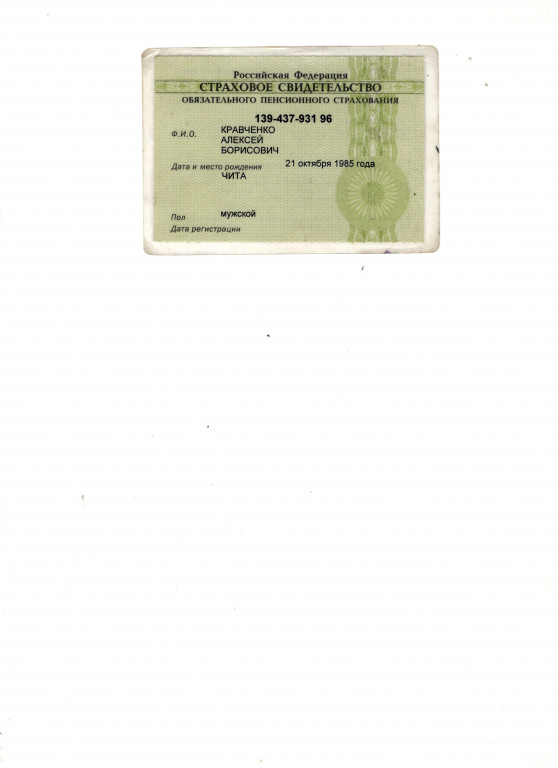text: (253, 111, 334, 125), (283, 158, 377, 169), (219, 145, 281, 156), (219, 124, 279, 135), (218, 134, 268, 145), (218, 208, 257, 220), (220, 170, 250, 181)
